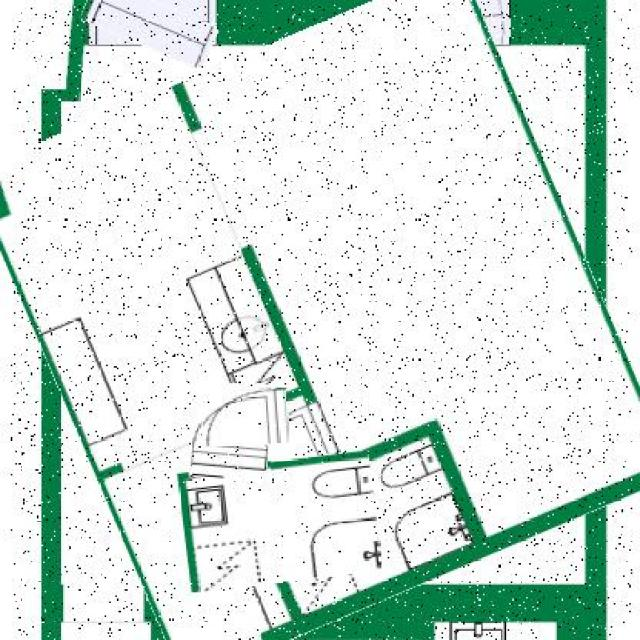door: (192, 385, 271, 483), (203, 389, 289, 446)
window: (80, 0, 217, 55), (378, 0, 509, 45)
zone: (10, 4, 632, 640), (180, 455, 378, 588)
